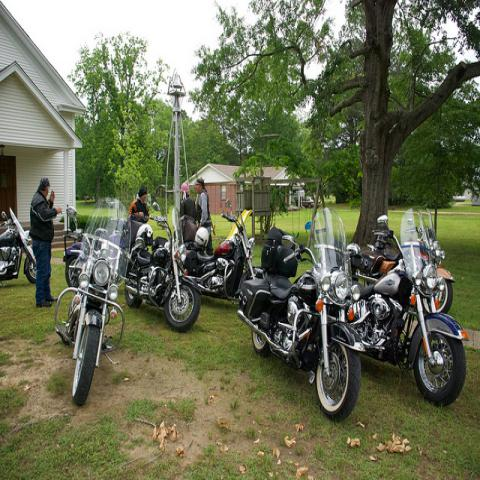motorcycle: (236, 209, 365, 422), (351, 207, 470, 406), (53, 199, 131, 406), (125, 203, 201, 332), (176, 200, 258, 303), (349, 229, 402, 285), (0, 207, 37, 284), (62, 235, 81, 284)
